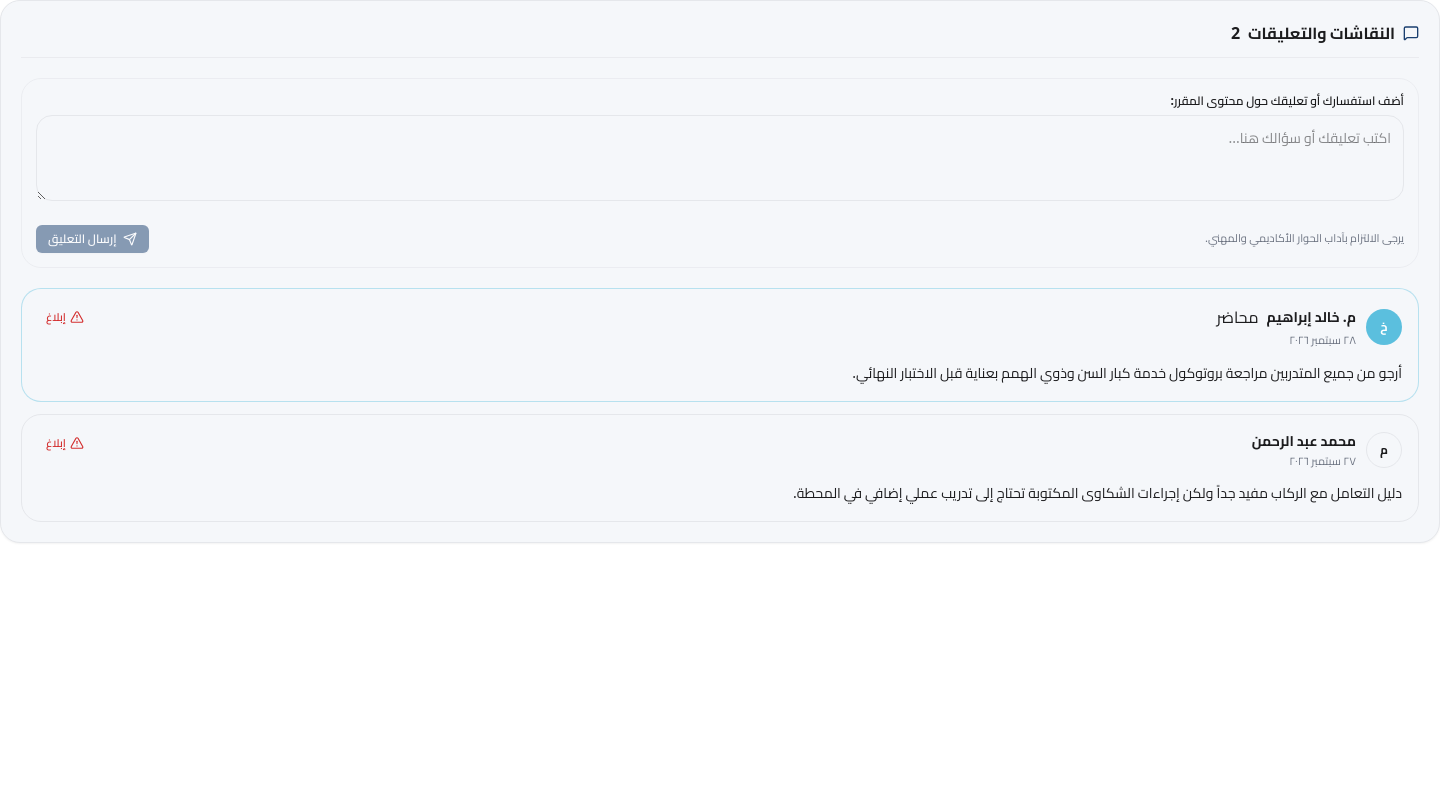
Test: Increment 11 — Phase 5C: Course Discussion UI & Reporting Dialog › 2. Comment Submission & Enrollment Rules › displays meaningful Arabic error message when comment creation fails
Check: the form with test id "comment-composer-form" is shown, box top-left (21, 78), bottom-right (1419, 268)
Step 1. Type "تعليق سيفشل" into the text box with test id "comment-input" → [720, 158], box top-left (36, 115), bottom-right (1404, 201)
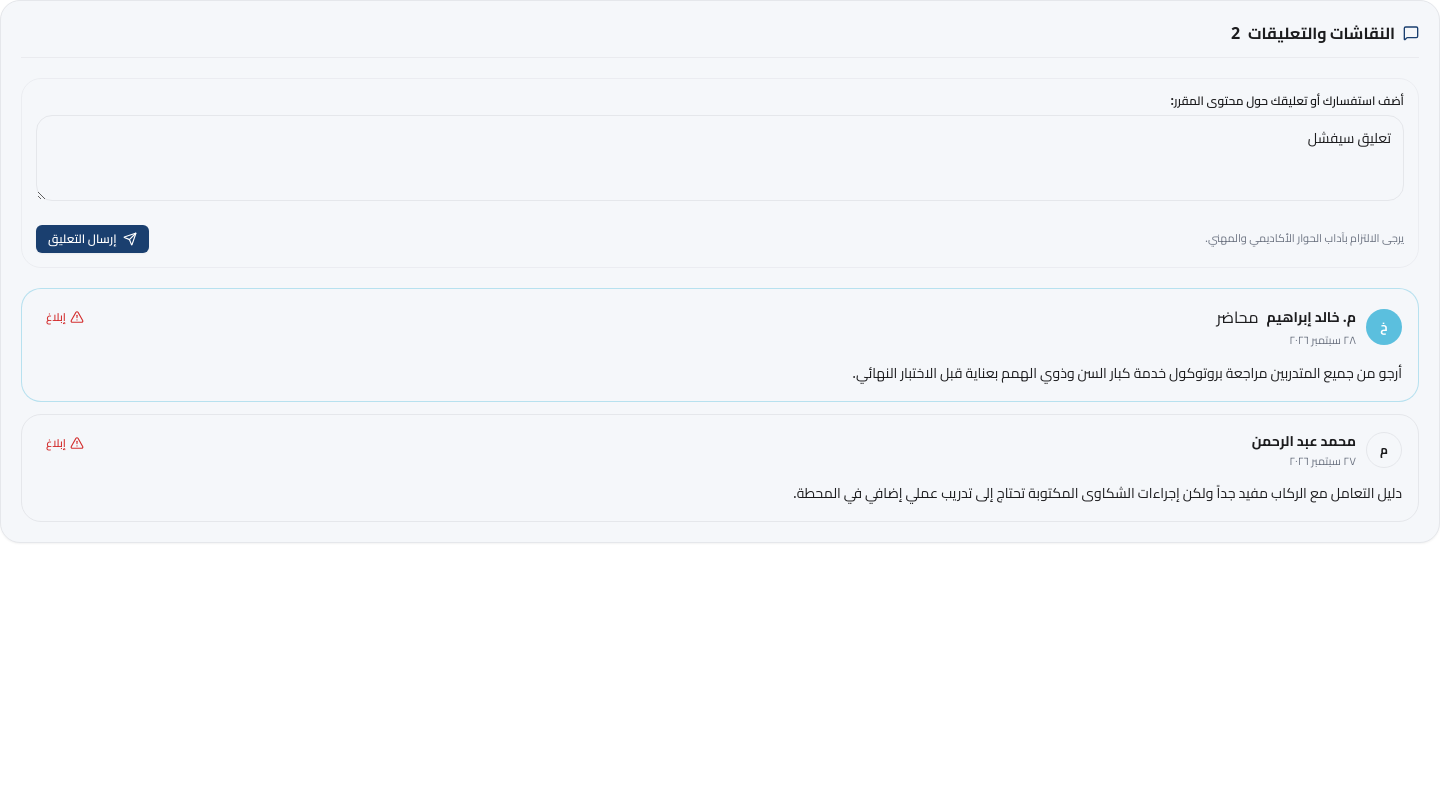
Step 2. Click the button with test id "submit-comment-button" → [92, 239], box top-left (36, 225), bottom-right (148, 253)
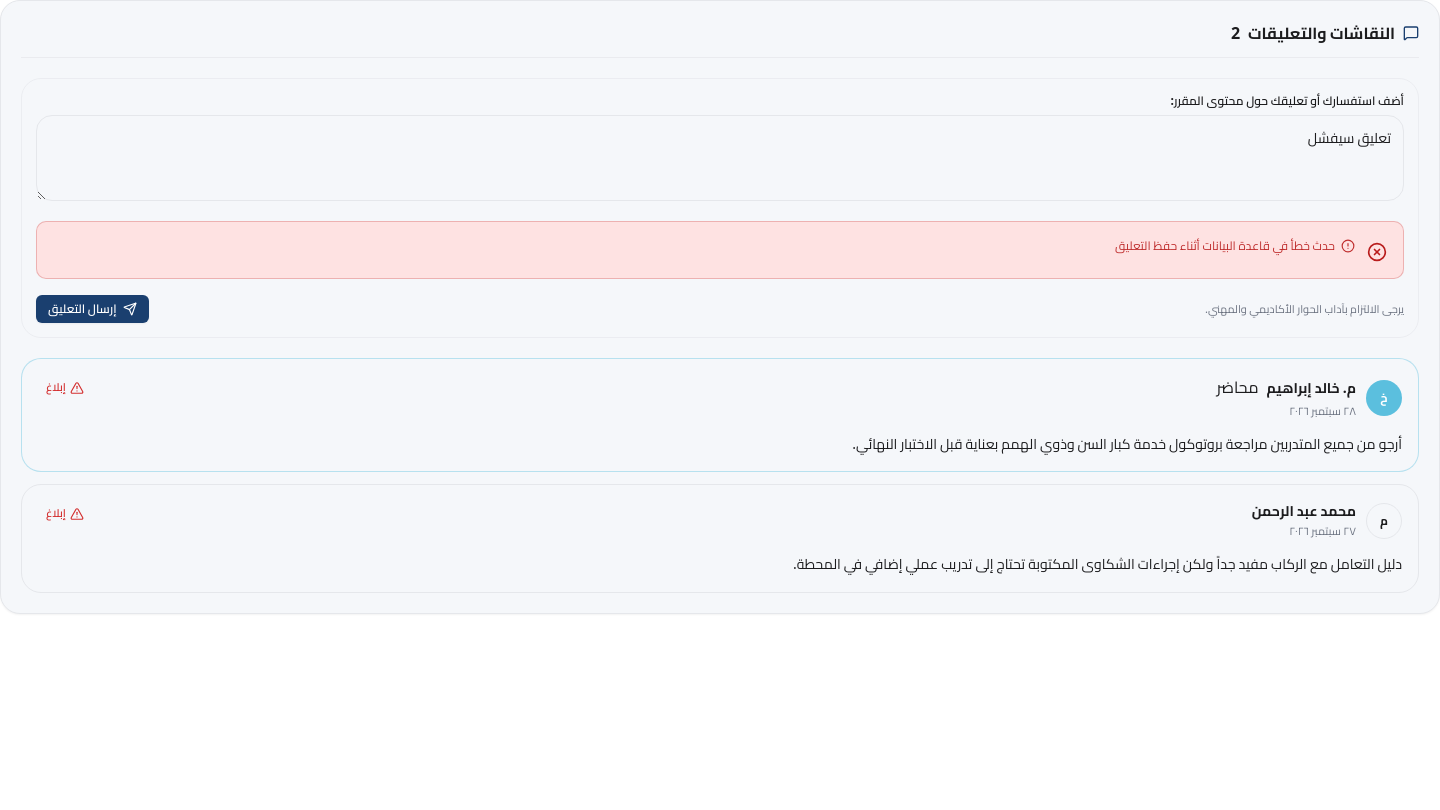
Check: the message "حدث خطأ في قاعدة البيانات أثناء حفظ التعليق" is shown, box top-left (36, 221), bottom-right (1404, 279)
Check: the text "حدث خطأ في قاعدة البيانات أثناء حفظ التعليق" is shown, box top-left (1115, 238), bottom-right (1335, 254)
